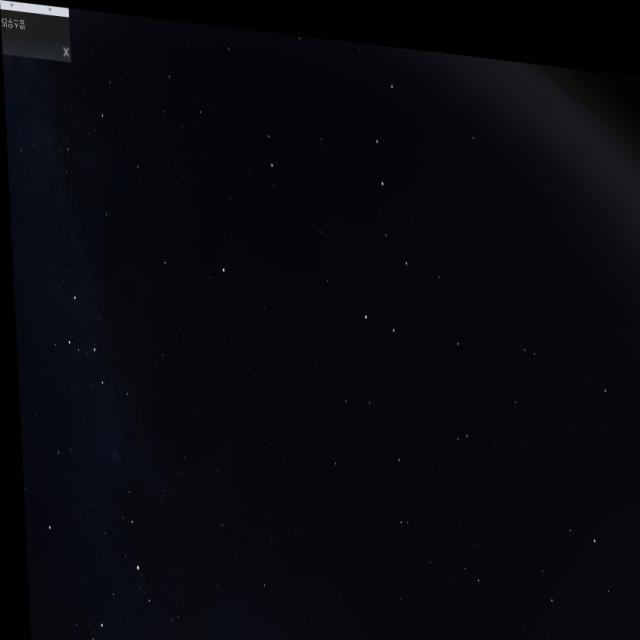ursa_major: (339, 50, 424, 362)
